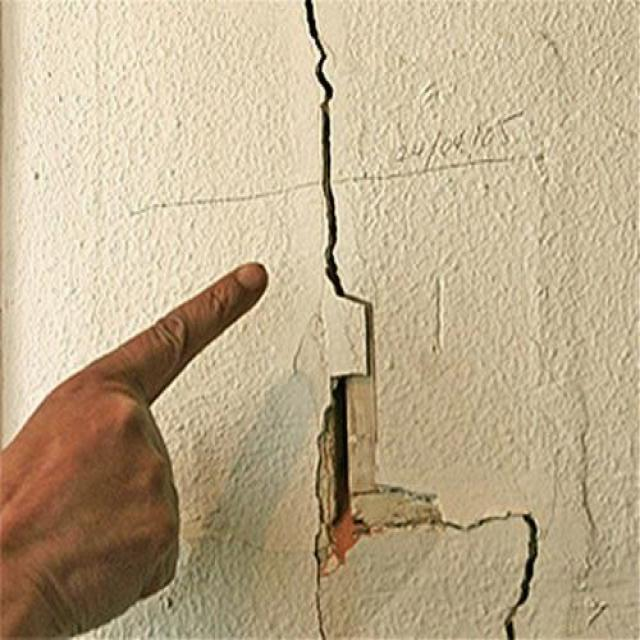horizontal crack: (352, 473, 540, 543)
vertical crack: (296, 8, 390, 637), (494, 500, 551, 636)
